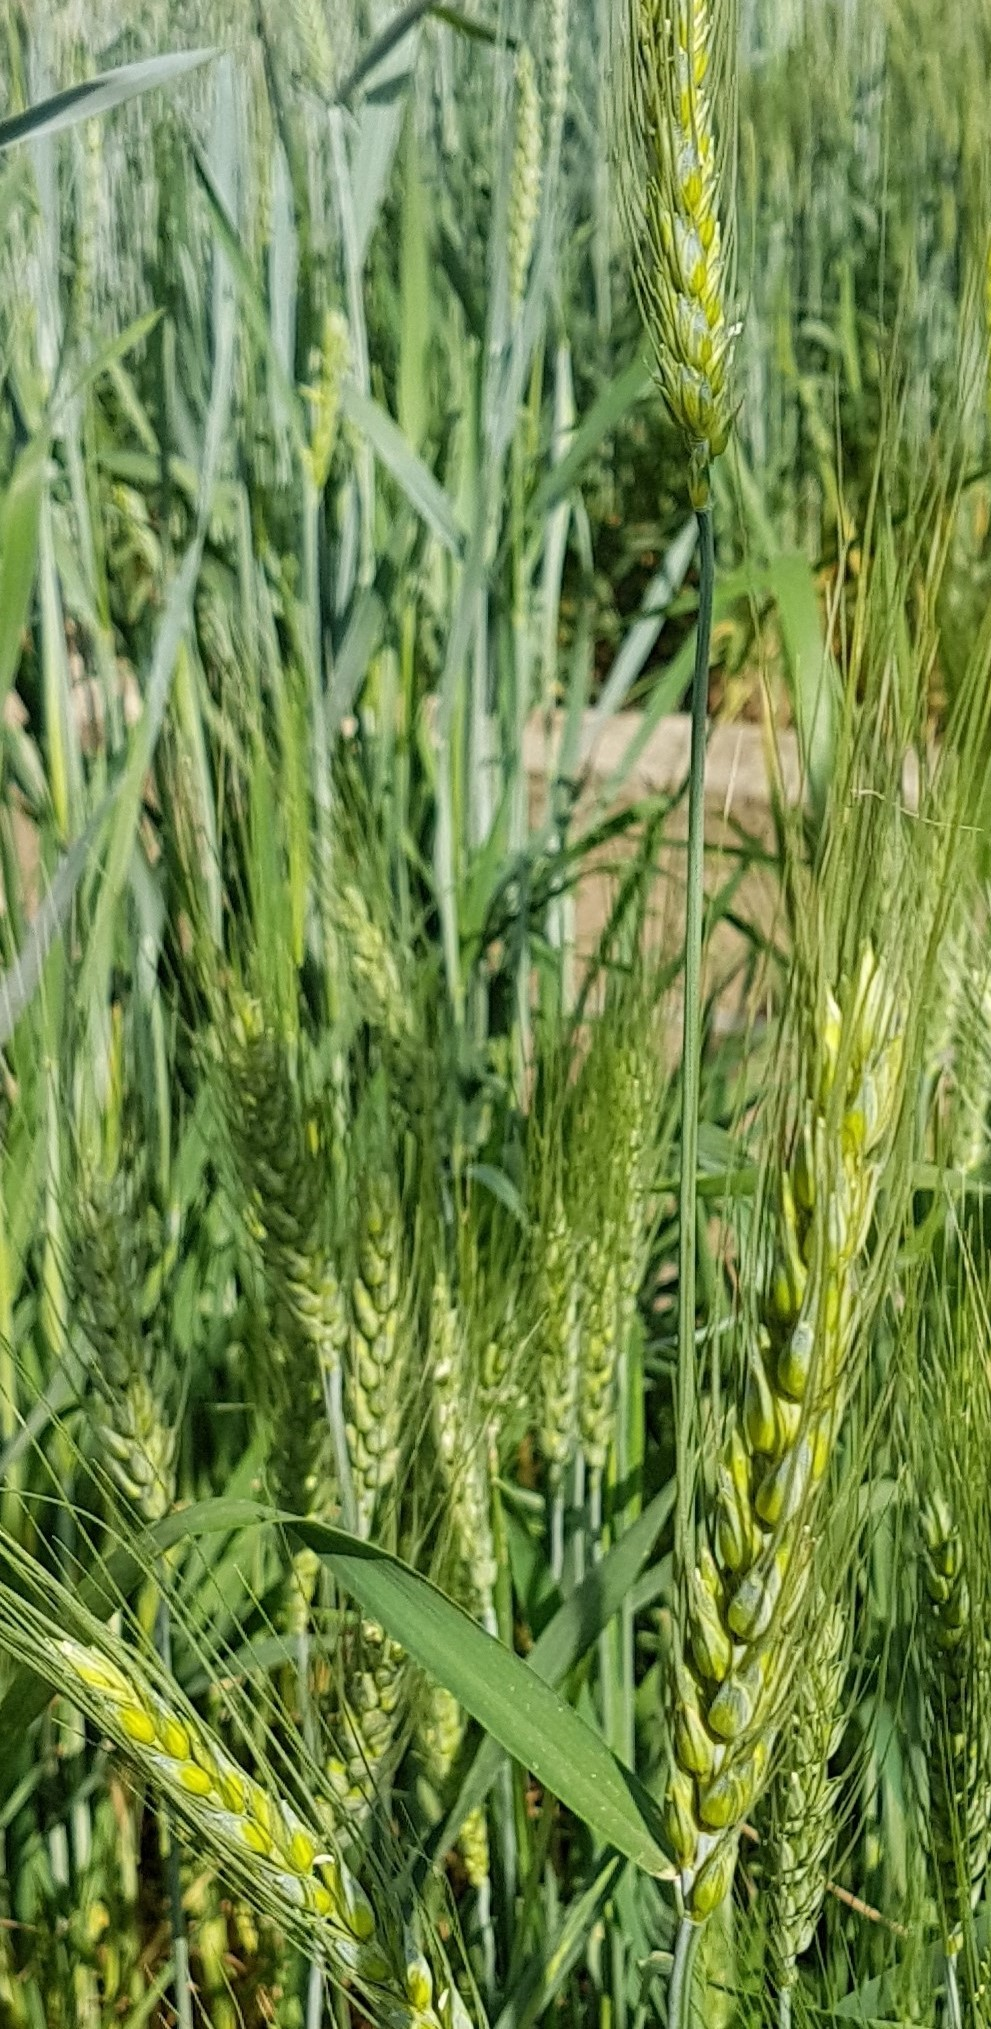Healthy Wheat: (638, 924, 953, 1815), (36, 977, 433, 1511), (605, 1, 788, 472)
